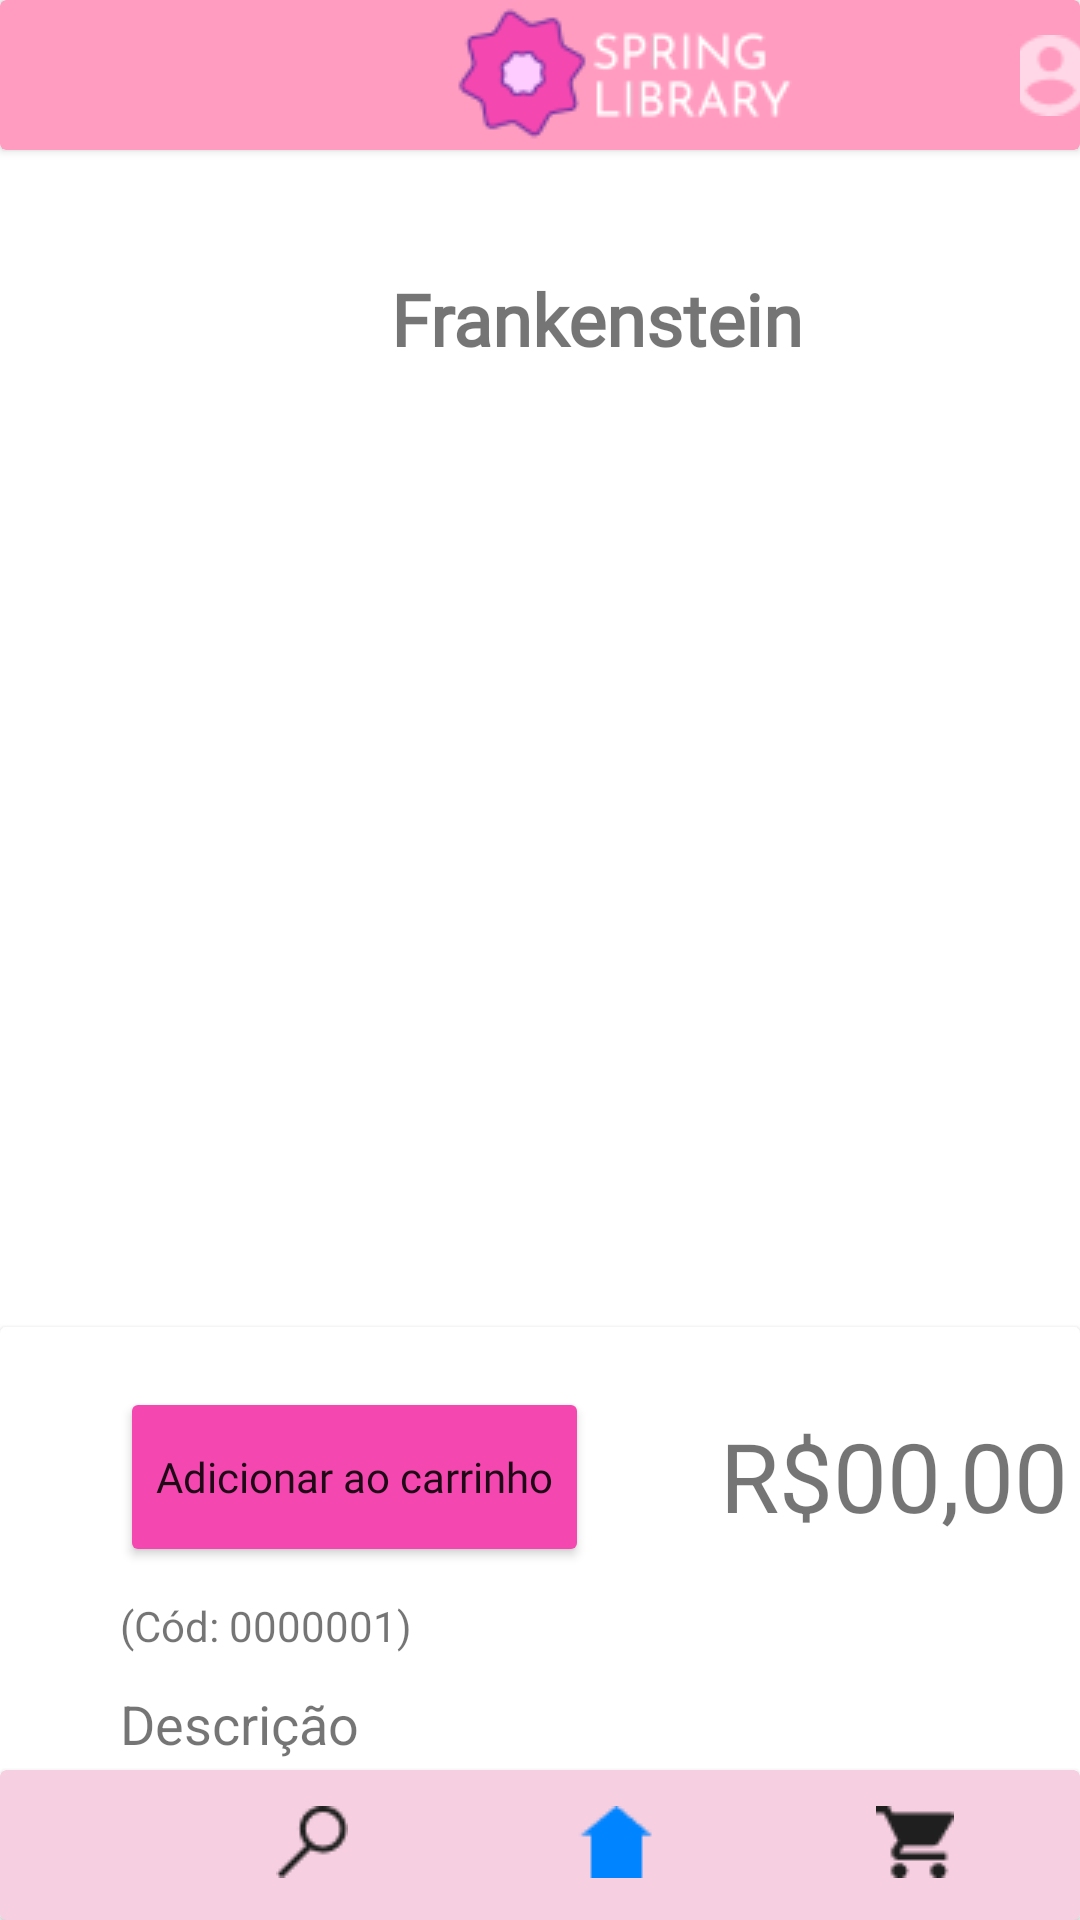

Icons on this 1080*1920 Android screen, each with its box as (x1, y1, x2, y2):
Carrinho: (876, 1806, 954, 1878)
Home: (581, 1806, 652, 1878)
Login: (1020, 35, 1080, 116)
Pesquisar: (276, 1806, 348, 1878)
